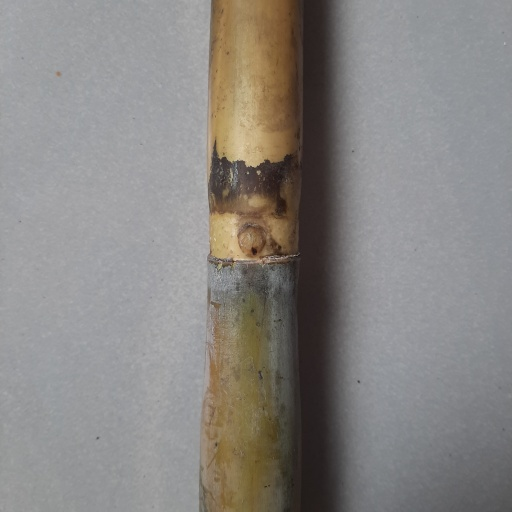Bud: (236, 224, 267, 260)
